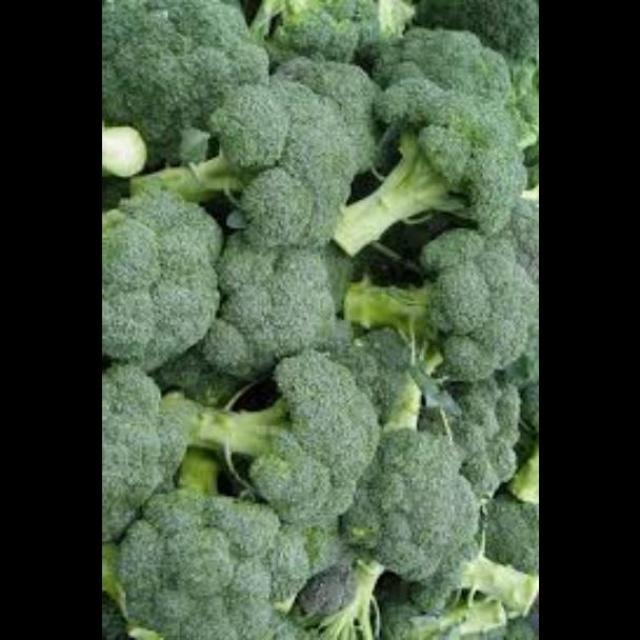Broccoli: (101, 8, 536, 640)
